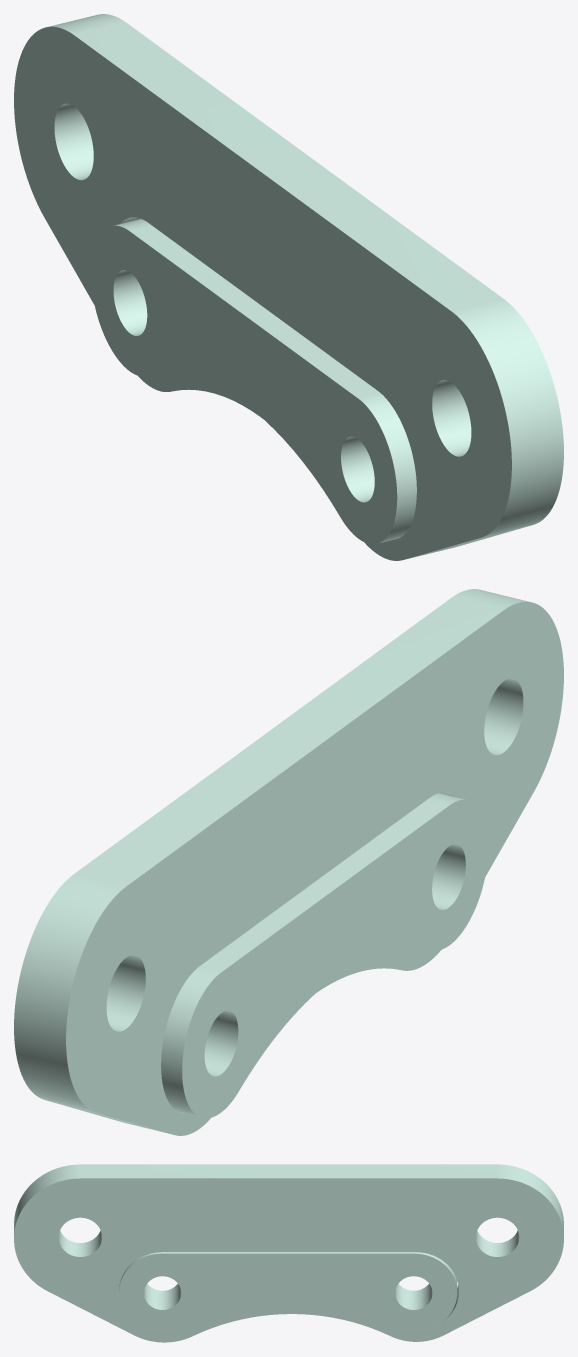
3 renders of one model, top to bottom at view 1: azimuth 30°, elevation 25°; view 2: azimuth 150°, elevation 25°; view 3: azimuth 270°, elevation 25°, orthographic. The views are drawn at different scales.
Visible parts, largest first — view 1: Renderer Node; view 2: Renderer Node; view 3: Renderer Node.
Boxes of the visible parts, <box> form: Renderer Node: <box>14,14,563,560</box>; Renderer Node: <box>14,589,563,1135</box>; Renderer Node: <box>14,1164,563,1342</box>.
Bounding box in the file's own units: 0.0859 × 0.3407 × 1.04.
